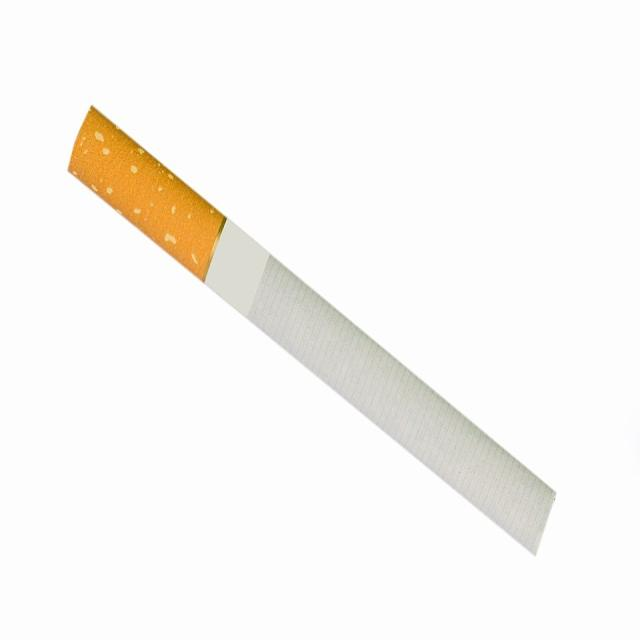Cigarette: (67, 107, 556, 557)
